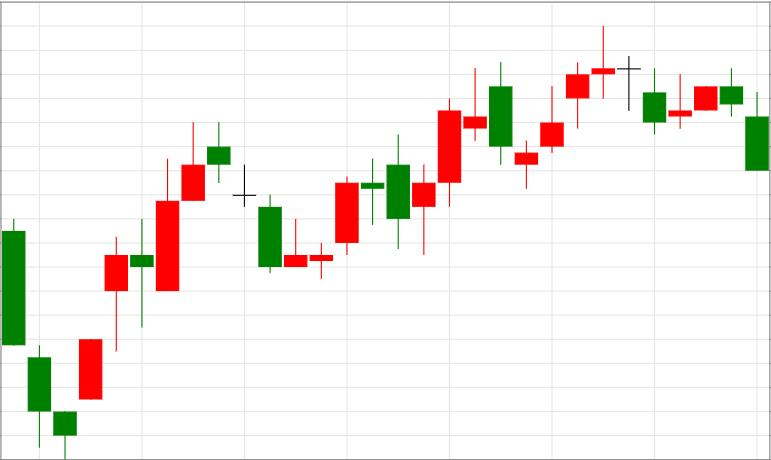bearish_engulfing_fall: (412, 63, 513, 256)
